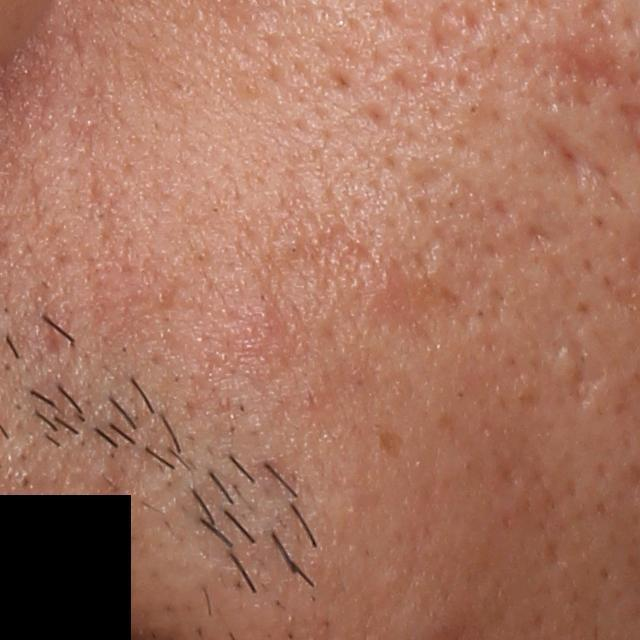atrophic_scar: (534, 115, 622, 193), (552, 331, 608, 410), (522, 214, 565, 252), (409, 161, 455, 188)
